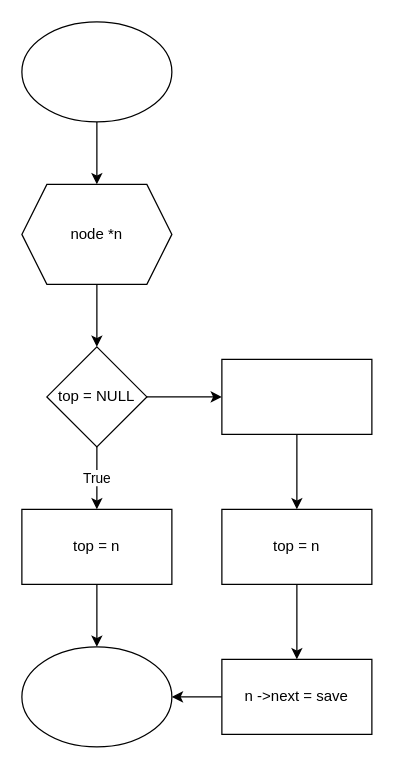
The diagram is 394 pixels wide and 769 high, and some of its shapes have lost their labels. The centre of each missing label's shape, as x and y in pixels:
"END" goes at [96,696].
"save = top" goes at [296,396].
"START" goes at [96,71].
